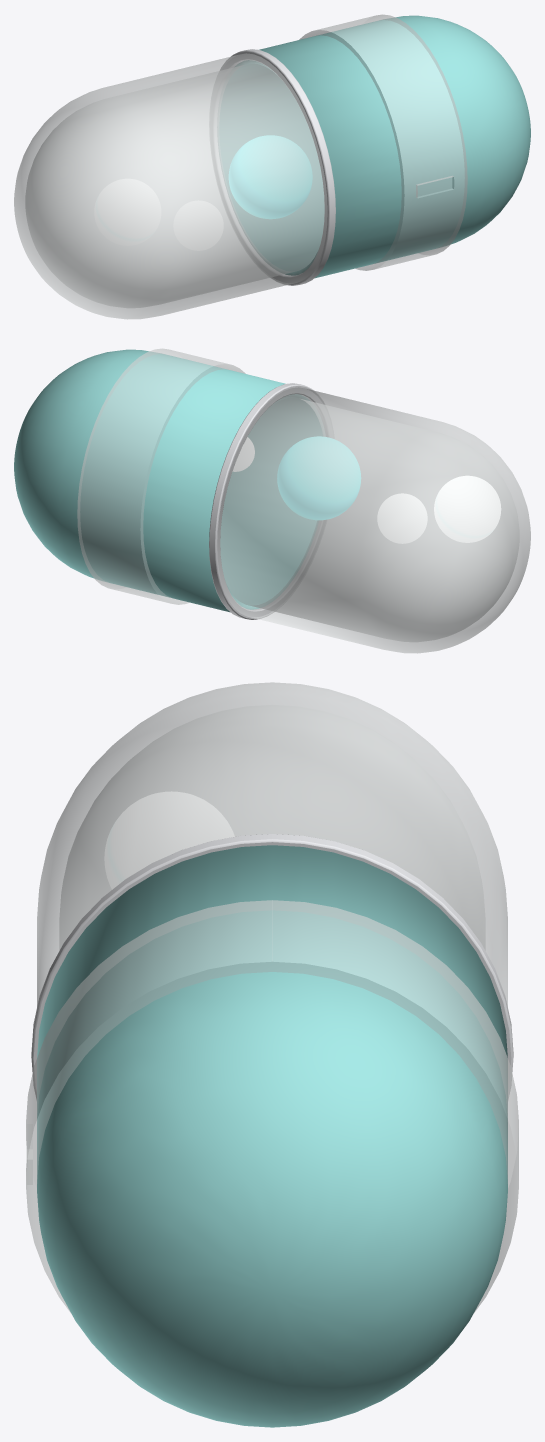
3 views of the same model, one above another, from view 1: azimuth 30°, elevation 25°; view 2: azimuth 150°, elevation 25°; view 3: azimuth 270°, elevation 25° (orthographic). The views are drawn at different scales.
Visible parts, largest first — view 1: shell_b, shell_a, label, bead3, seam, bead1, bead2; view 2: shell_b, shell_a, label, bead3, seam, bead1, bead2, bead4; view 3: shell_a, shell_b, label, seam, bead1.
Boxes of the visible parts, x1,y1,x2,y2 form: shell_b: (14,53,327,319); shell_a: (217,15,530,278); label: (299,14,467,270); bead3: (229,135,312,218); seam: (210,49,335,285); bead1: (94,179,160,245); bead2: (173,200,223,250); shell_b: (217,387,530,653); shell_a: (14,349,323,612); label: (77,348,245,604); bead3: (277,436,360,519); seam: (209,383,333,619); bead1: (434,476,500,542); bead2: (377,493,427,543); bead4: (233,437,254,471); shell_a: (37,845,507,1427); shell_b: (37,682,507,1006); label: (26,900,518,1313); seam: (31,834,513,1099); bead1: (104,791,234,889).
Size of the model in its own units: 2 by 0.88 by 0.88.
